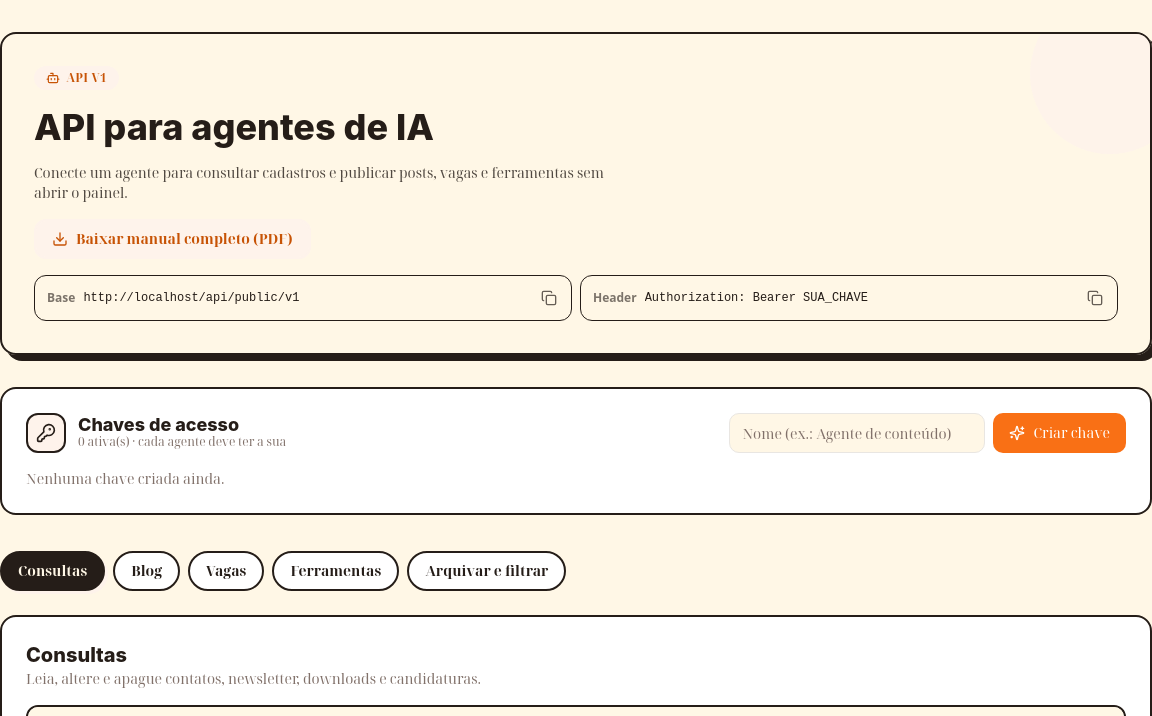
it: Manual da API — abas › aba Blog mostra seus endpoints
The image size is (1152, 716).
Click the tab "Blog". click: [147, 571]
box: [113, 551, 180, 591]
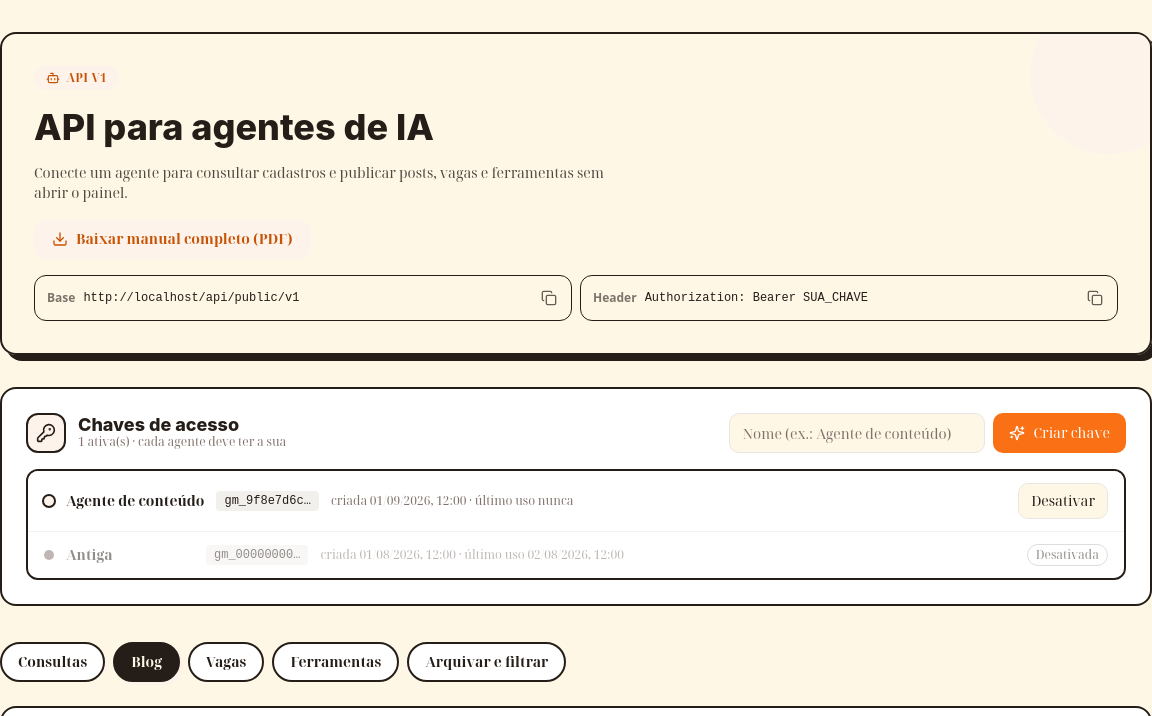
Result: the tab "Blog" is selected at [113, 642, 180, 682]
Result: the tab "Blog" has attribute tabindex="0" at [113, 642, 180, 682]
Result: the tab "Consultas" has attribute tabindex="-1" at [0, 642, 105, 682]
